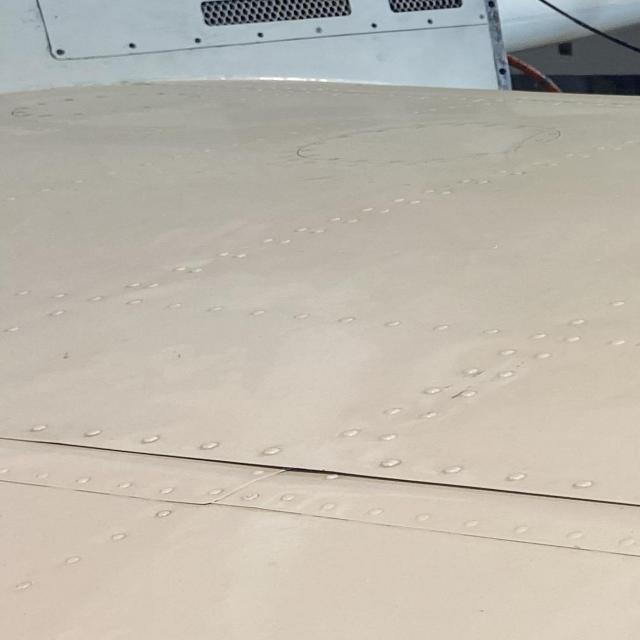Missing-head: (193, 36, 206, 46), (127, 40, 138, 51), (368, 20, 379, 30), (56, 48, 67, 56), (426, 17, 434, 25), (257, 32, 264, 38)
